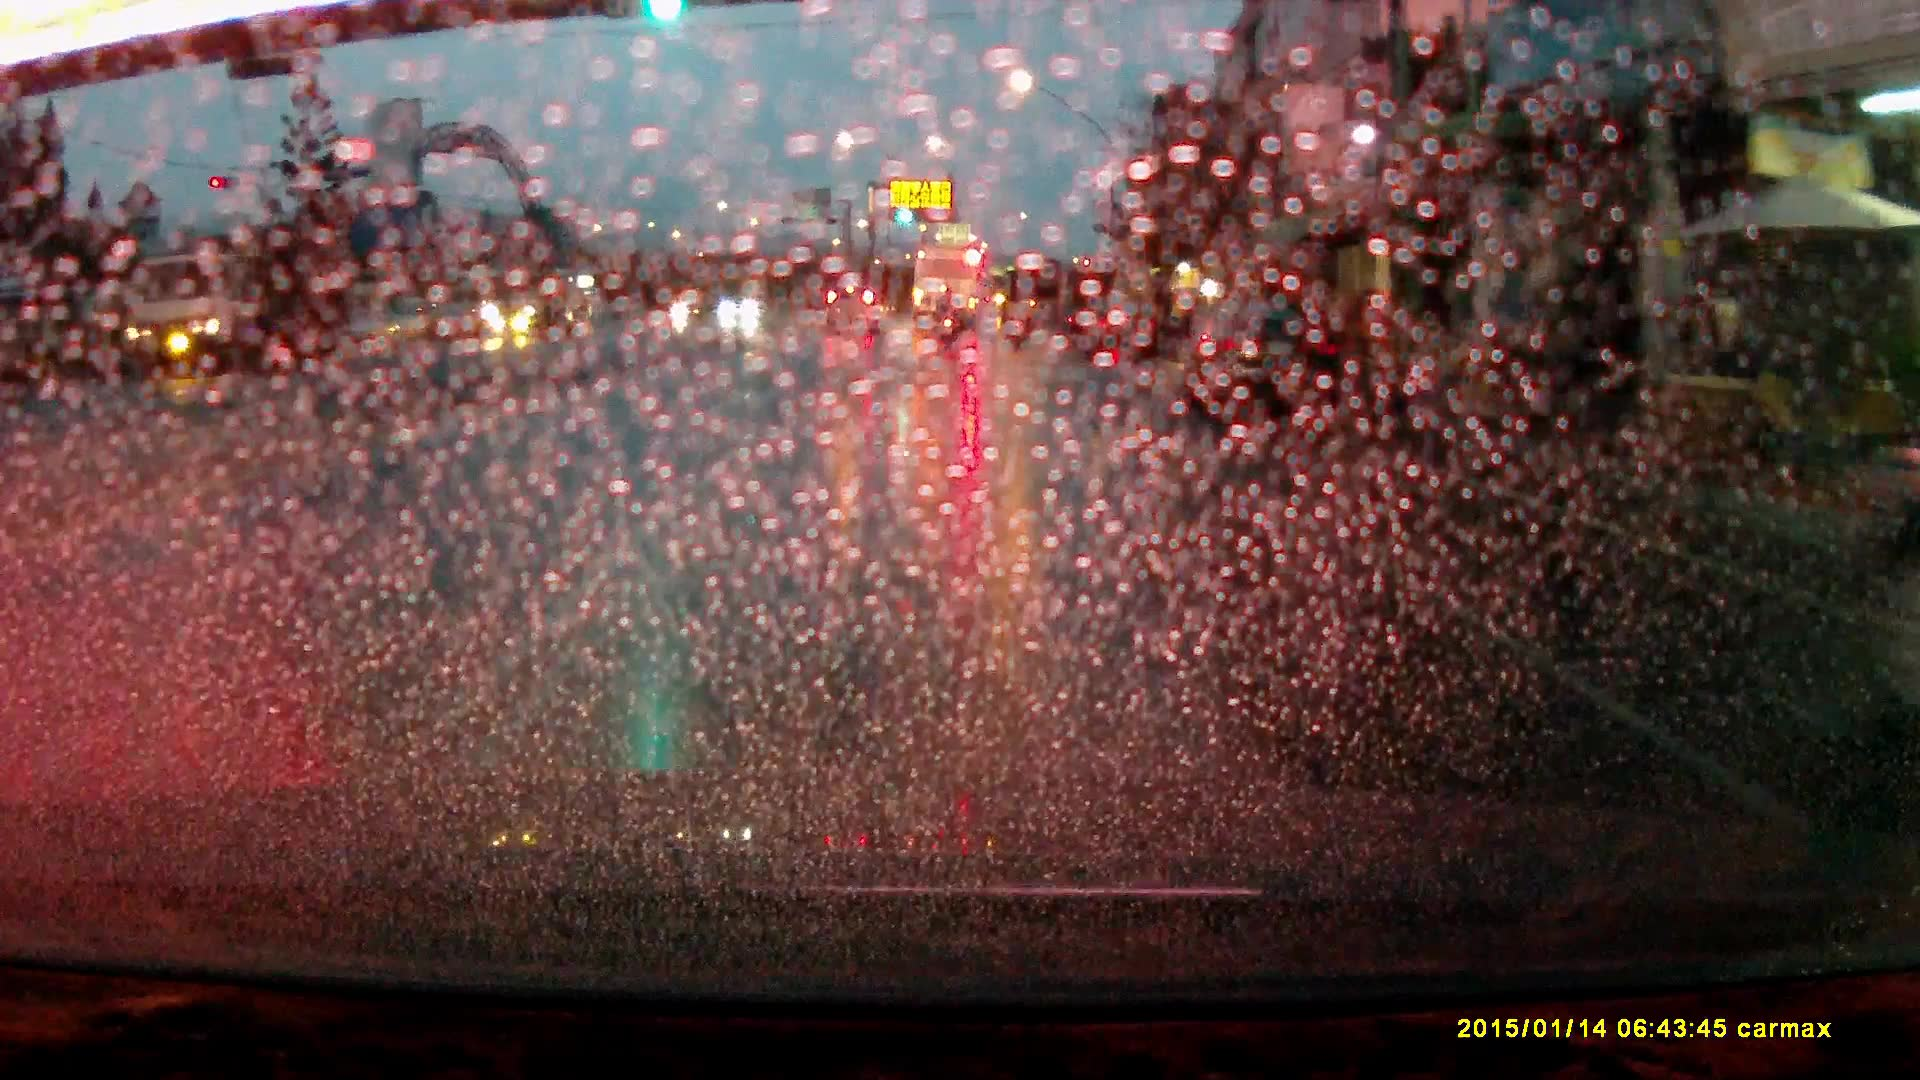rider: (937, 289, 964, 351)
vehicle: (120, 250, 328, 380), (1179, 310, 1352, 415), (485, 263, 584, 339), (912, 247, 981, 330), (1082, 302, 1160, 358), (826, 286, 884, 334), (718, 294, 764, 322)
